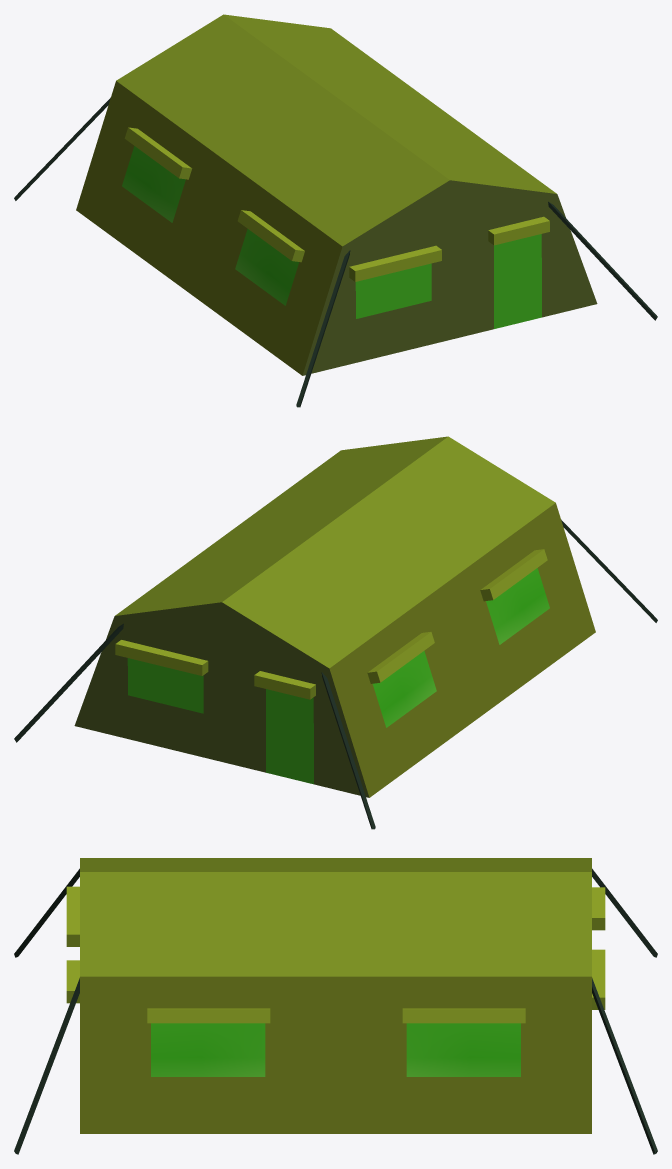
The model's file is tent_02.fbx.
The picture shows the model from 3 angles, top to bottom: view 1: azimuth 30°, elevation 25°; view 2: azimuth 150°, elevation 25°; view 3: azimuth 270°, elevation 25°; orthographic projection. The views are drawn at different scales.
Parts seen in each view (by area): view 1: tent_02; view 2: tent_02; view 3: tent_02.
Boxes of the visible parts, x1=… form: tent_02: x1=14, y1=14, x2=657, y2=407; tent_02: x1=14, y1=436, x2=657, y2=829; tent_02: x1=14, y1=858, x2=657, y2=1154.
Bounding box in the file's own units: 484 × 208 × 661.
